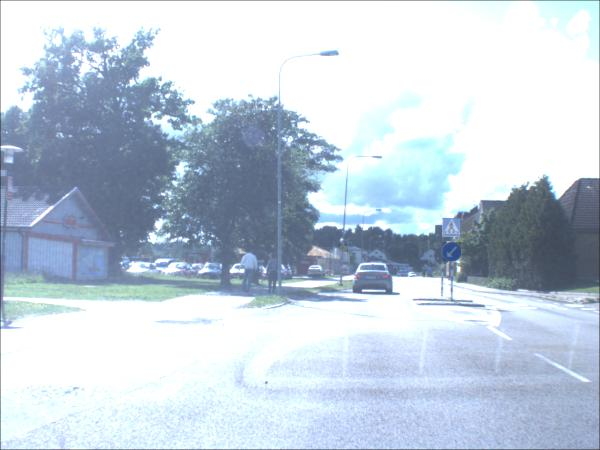PASS_RIGHT_SIDE: (442, 243, 462, 263)
PEDESTRIAN_CROSSING: (442, 220, 461, 239)
PRIORITY_ROAD: (338, 245, 349, 254)
